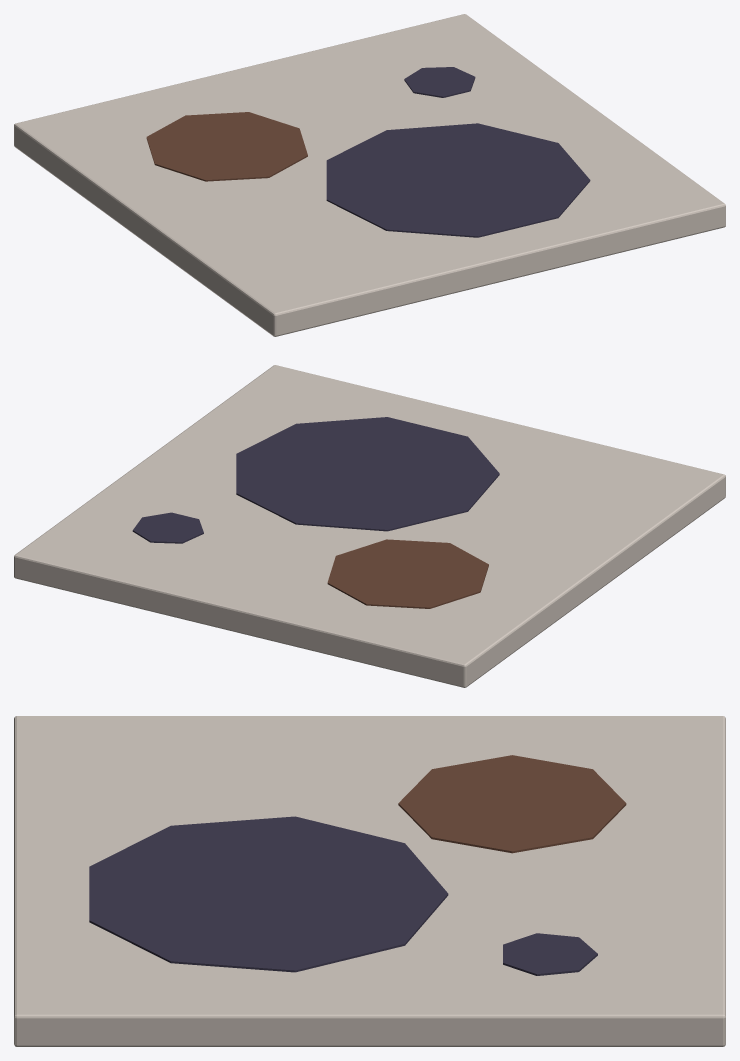
Rendered from floor_oil_stain_1m.glb.
The picture shows the model from 3 angles, top to bottom: view 1: azimuth 30°, elevation 25°; view 2: azimuth 150°, elevation 25°; view 3: azimuth 270°, elevation 25°; orthographic projection. The views are drawn at different scales.
Visible parts, largest first — view 1: floor_oil_stain_1m; view 2: floor_oil_stain_1m; view 3: floor_oil_stain_1m.
Boxes of the visible parts, x1,y1,x2,y2 form: floor_oil_stain_1m: (14,14,725,336); floor_oil_stain_1m: (14,365,725,687); floor_oil_stain_1m: (14,716,725,1046).
Size of the model in its own units: 1 by 0.053 by 1.
